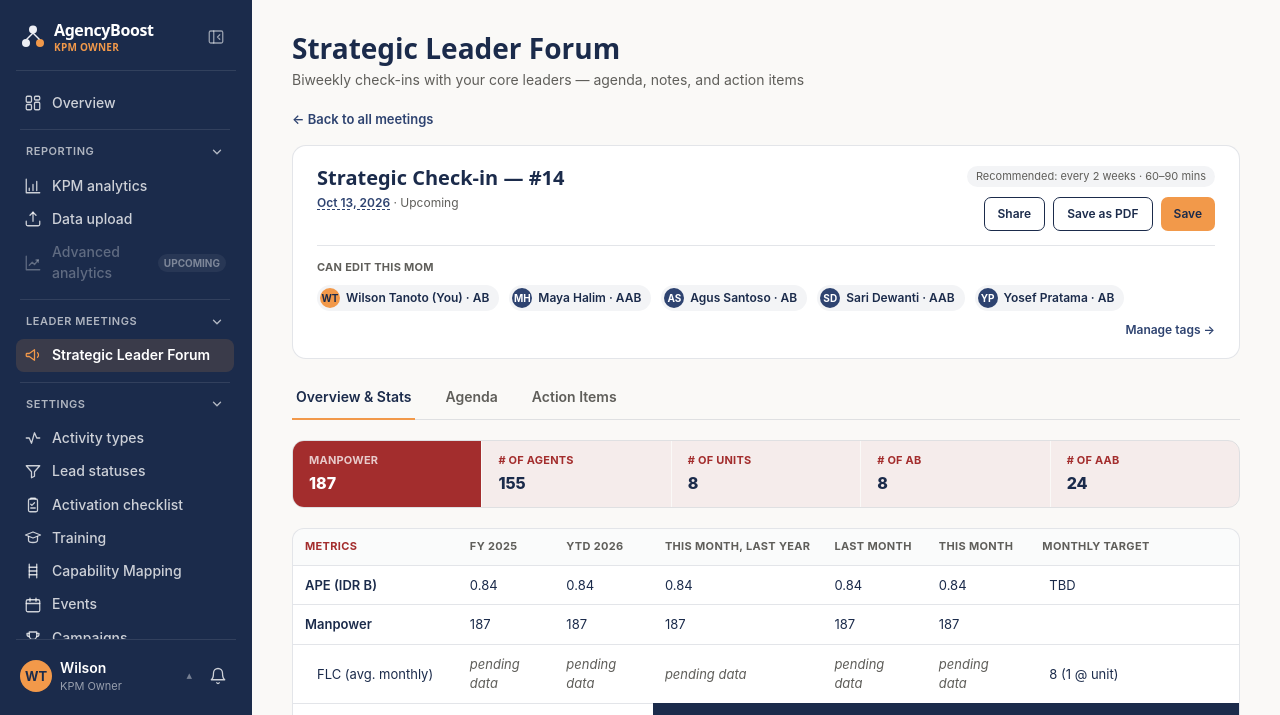
Scenario: /leader-meetings/[meetingId] — a meeting (P18.1-T2, P18.1-T3) › the meeting dialog (OD-145, I-254) › P18.1-T2 AC-2: Meeting details moves the date, sending only what changed with the head’s version, then reads the meeting again
Click the button with aria-label "Change the date of": point(354, 202) [317,194,390,211]
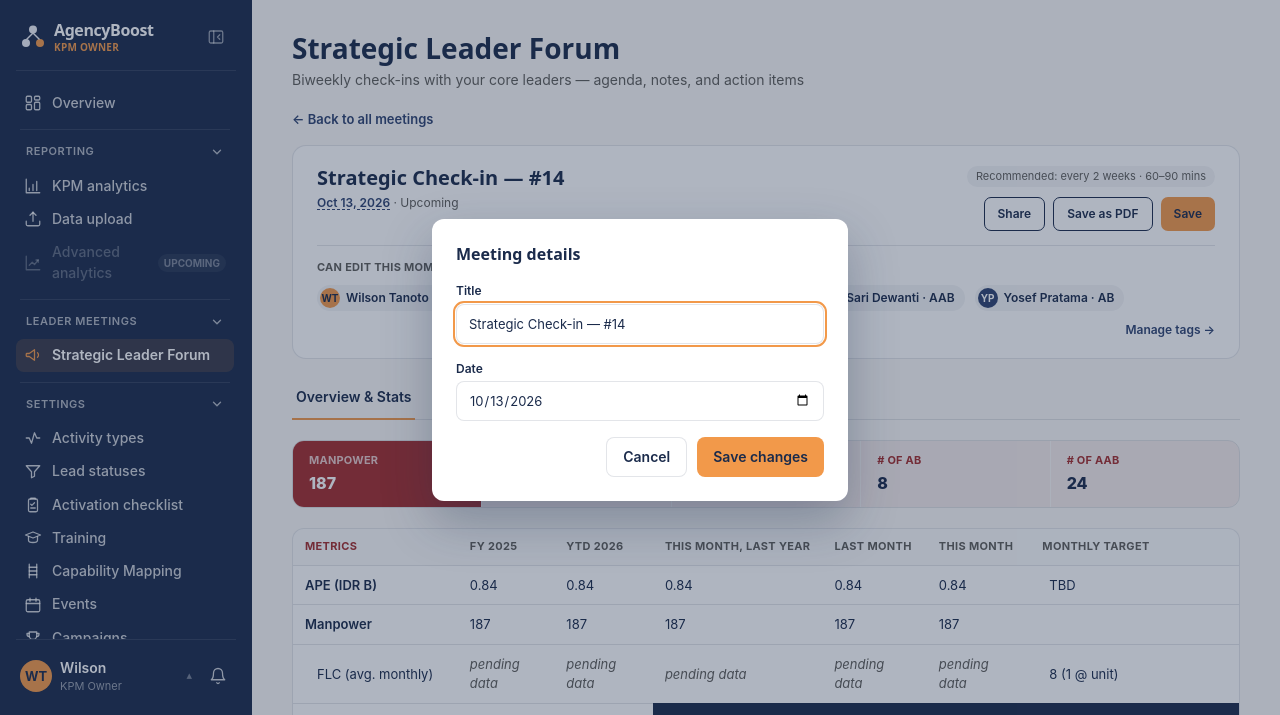
expect the field labelled "Title" holds "Strategic Check-in — #14": met, box [456,304,824,344]
expect the date field labelled "Date" holds "2026-10-13": met
In the date field labelled "Date": point(640, 401) [456,381,824,421], type "2026-10-20"
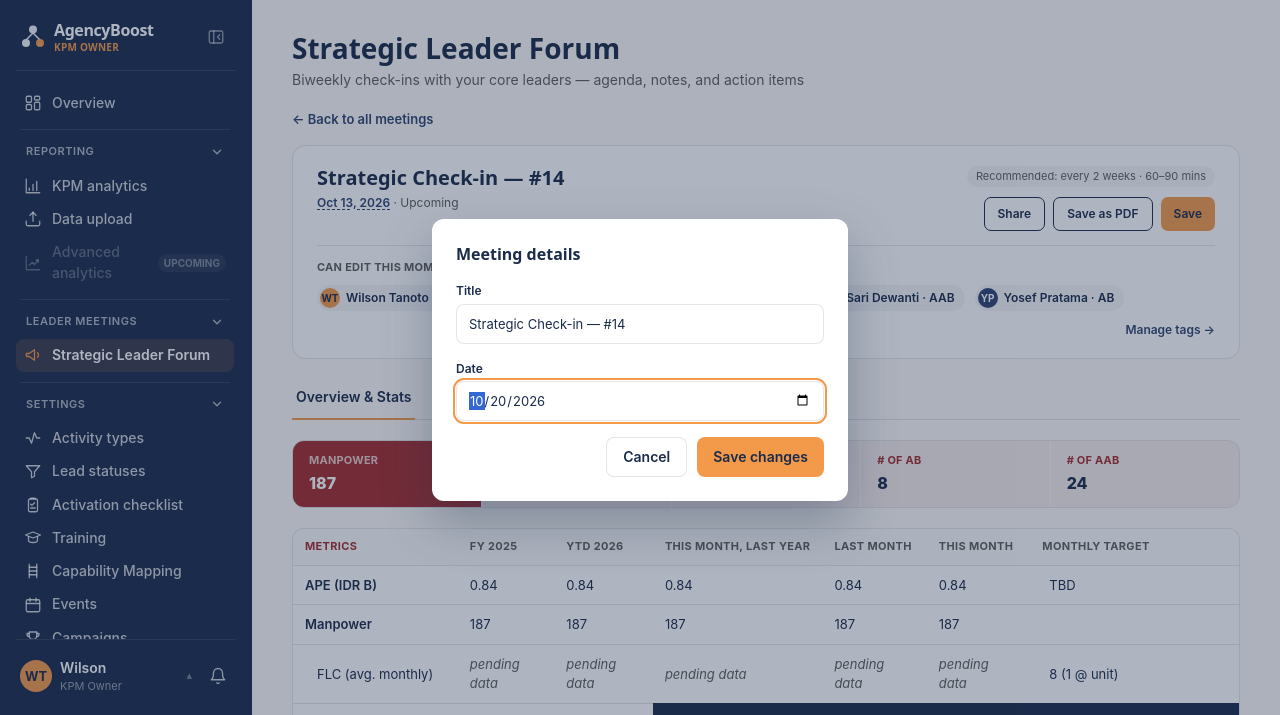
Click the button "Save changes": point(761, 457) [697,437,824,477]
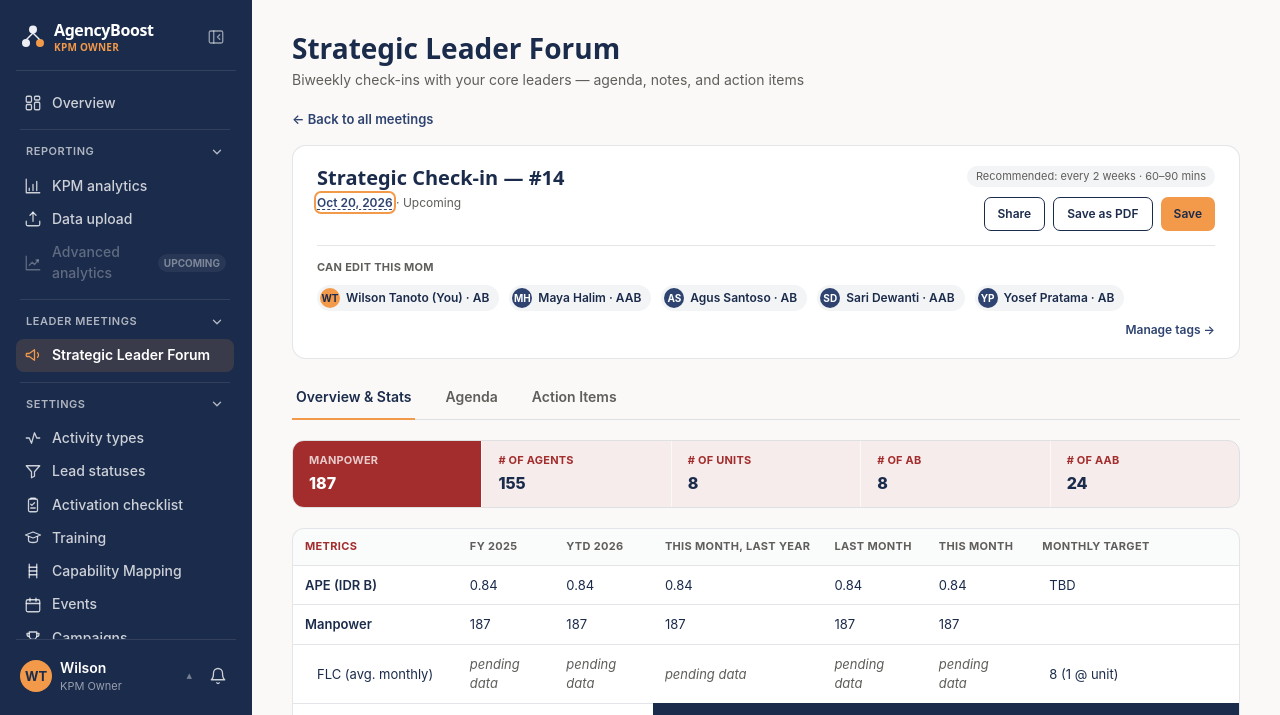
expect the dialog is gone: met
expect the button "Oct 20, 2026" is shown: met, box [317,194,393,211]
